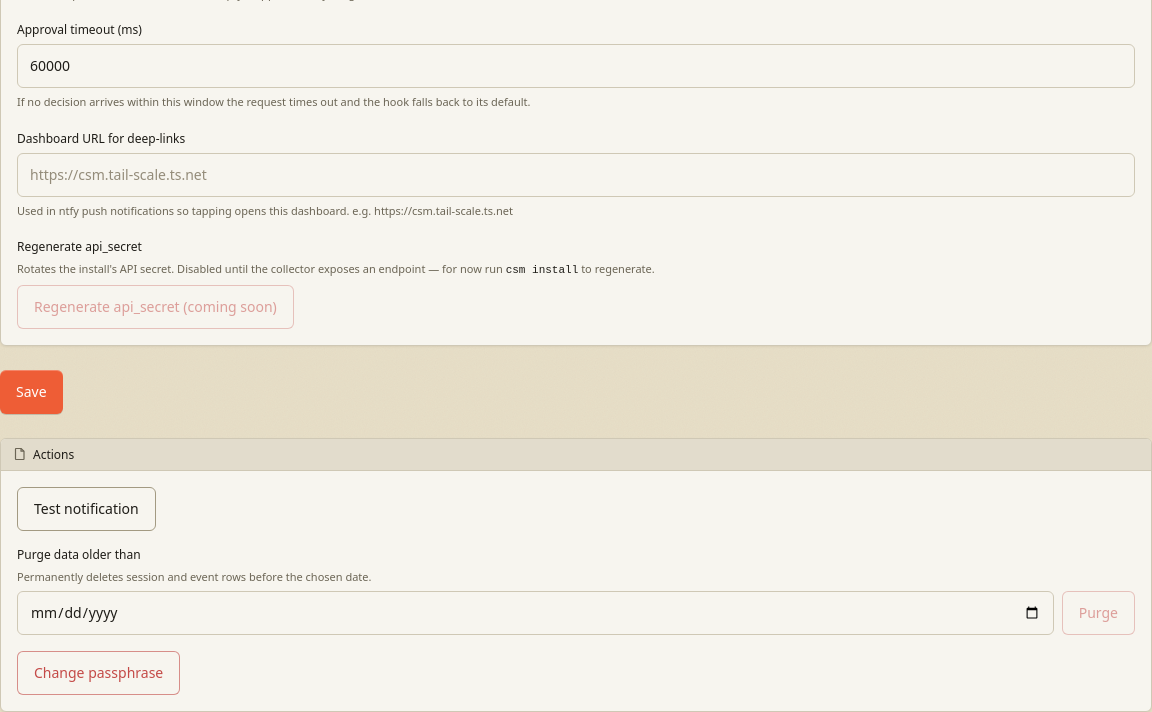
Test: Settings › opens the change-passphrase modal when its button is clicked
(page scrolled)
What coordinates should you click on to do the following:
click the button "Change passphrase"
I would click on:
 (99, 673)
Its box is [17,651,180,695].
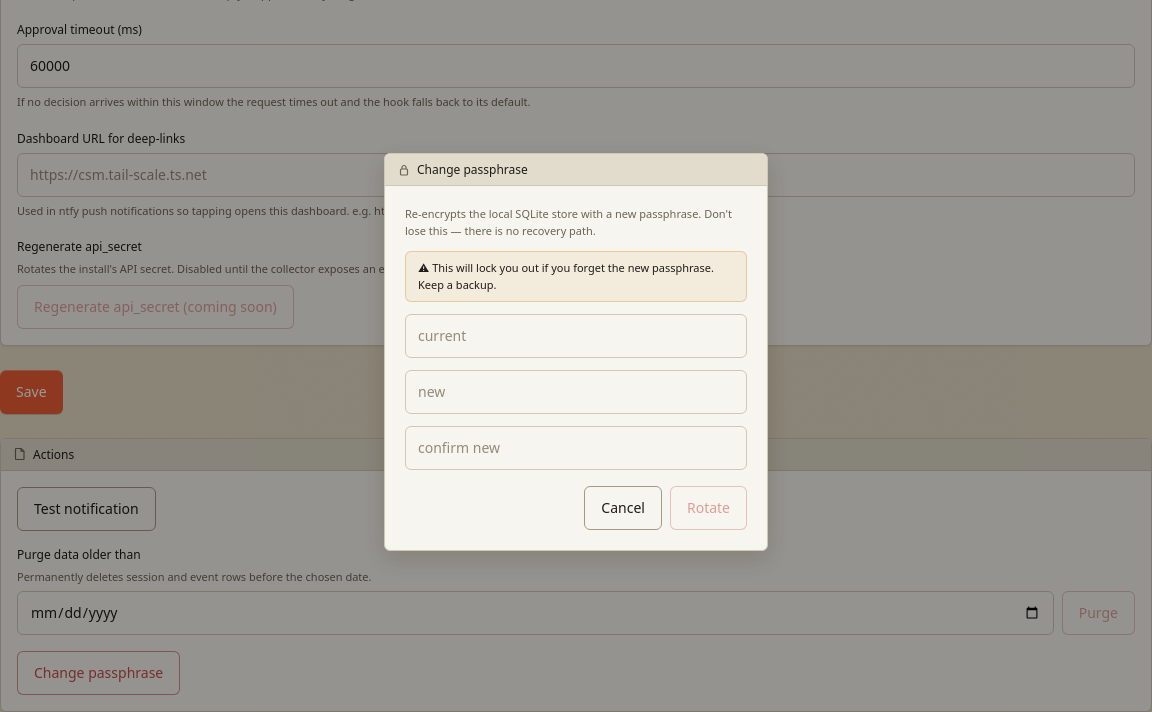
Expected: the password field named "old passphrase" is shown, [405,314,747,358]
Expected: the password field named "new passphrase" is shown, [405,370,747,414]
Expected: the password field named "confirm new passphrase" is shown, [405,426,747,470]
